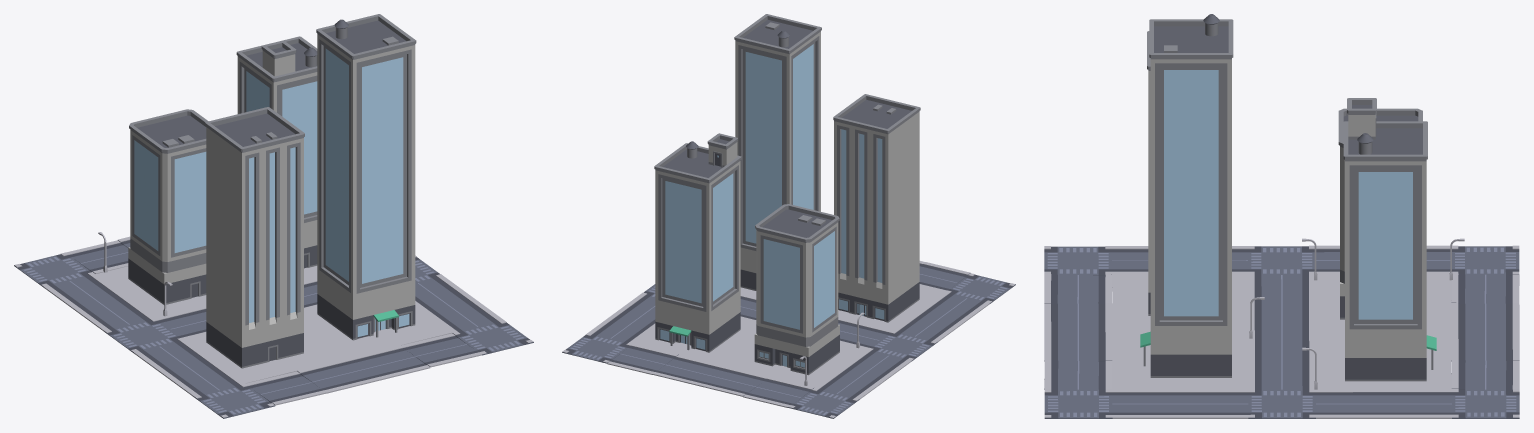
The model's file is city_block3.fbx.
The picture shows the model from 3 angles, left to right: view 1: azimuth 30°, elevation 25°; view 2: azimuth 150°, elevation 25°; view 3: azimuth 270°, elevation 25°; orthographic projection. The views are drawn at different scales.
Visible parts, largest first — view 1: skyscraperD, skyscraperF, skyscraperA, skyscraperC, road_straight__17_, road_straight__18_, road_crossroadPath__4_, road_crossroadPath__5_, road_straight__6_, road_straight__7_, road_straight__5_, road_straight__4_ (+15 smaller); view 2: skyscraperF, skyscraperD, skyscraperC, skyscraperA, road_straight__11_, road_straight__8_, road_straight__9_, road_straight__10_, road_crossroadPath__2_, road_crossroadPath__3_, road_straight__6_, road_straight__7_ (+15 smaller); view 3: skyscraperD, skyscraperC, road_straight__14_, road_straight__15_, road_crossroadPath__5_, road_straight__9_, road_straight__17_, road_crossroadPath__1_, road_crossroadPath__3_, road_straight__12_, road_straight__13_, road_straight__19_ (+34 smaller).
Part boxes in pixels (x1,y1,x2,y2): skyscraperD: [316, 14, 416, 340]; skyscraperF: [205, 107, 304, 368]; skyscraperA: [128, 109, 208, 304]; skyscraperC: [236, 36, 317, 268]; road_straight__17_: [297, 358, 378, 393]; road_straight__18_: [349, 345, 430, 380]; road_crossroadPath__4_: [193, 383, 275, 418]; road_crossroadPath__5_: [452, 320, 533, 355]; road_straight__6_: [74, 296, 155, 331]; road_straight__7_: [44, 274, 124, 309]; road_straight__5_: [163, 361, 244, 396]; road_straight__4_: [134, 339, 214, 374]; skyscraperF: [833, 94, 920, 322]; skyscraperD: [734, 14, 821, 290]; skyscraperC: [654, 133, 741, 352]; skyscraperA: [754, 204, 839, 375]; road_straight__11_: [607, 343, 678, 374]; road_straight__8_: [743, 376, 814, 407]; road_straight__9_: [697, 366, 768, 396]; road_straight__10_: [652, 355, 723, 385]; road_crossroadPath__2_: [788, 388, 859, 418]; road_crossroadPath__3_: [562, 332, 632, 363]; road_straight__6_: [840, 349, 911, 380]; road_straight__7_: [814, 369, 885, 399]; skyscraperD: [1140, 14, 1233, 377]; skyscraperC: [1343, 98, 1436, 381]; road_straight__14_: [1180, 389, 1248, 418]; road_straight__15_: [1112, 389, 1180, 418]; road_crossroadPath__5_: [1044, 389, 1112, 418]; road_straight__9_: [1451, 303, 1519, 332]; road_straight__17_: [1044, 303, 1112, 332]; road_crossroadPath__1_: [1248, 389, 1315, 418]; road_crossroadPath__3_: [1452, 389, 1519, 418]; road_straight__12_: [1316, 389, 1383, 418]; road_straight__13_: [1384, 389, 1451, 418]; road_straight__19_: [1044, 359, 1112, 389].
Size of the model in its own units: 601 by 551 by 701.
